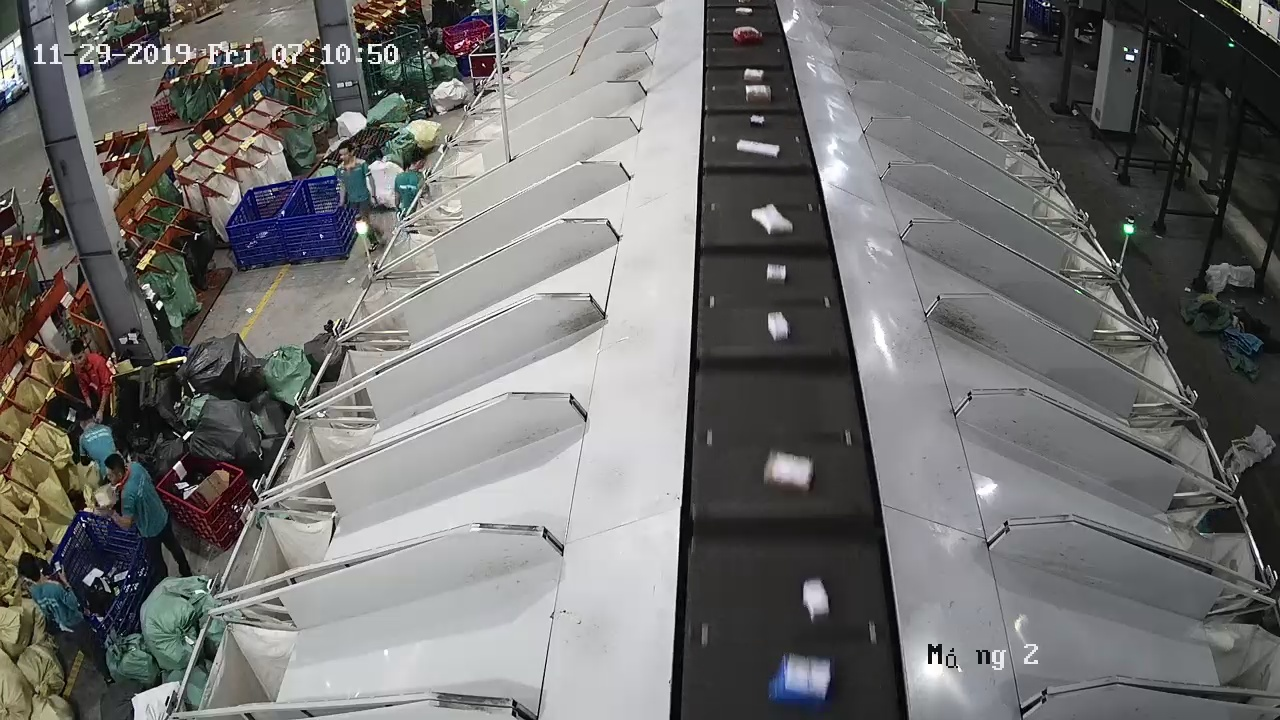parcel: (768, 652, 833, 707), (763, 450, 815, 492), (751, 203, 794, 236), (802, 578, 830, 616), (736, 139, 781, 158), (767, 311, 789, 342), (766, 263, 787, 286)
